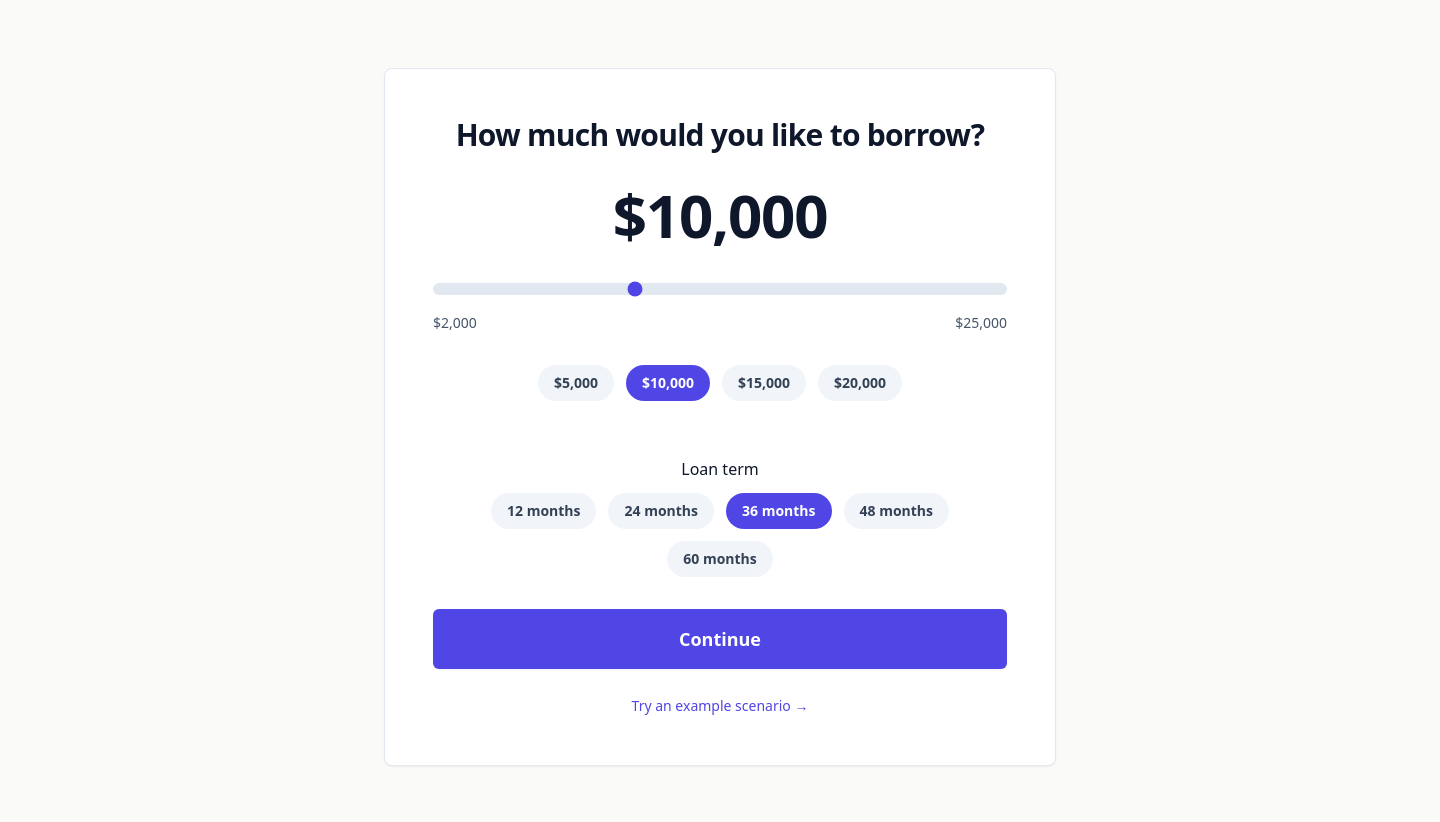
Test: LoanWizard › Step 1: LoanAmountStep › passes selected amount and term to next step
// Find the loan amount input slider
Set the slider to "15000" at coordinates (756, 289), box [433, 283, 1007, 295]
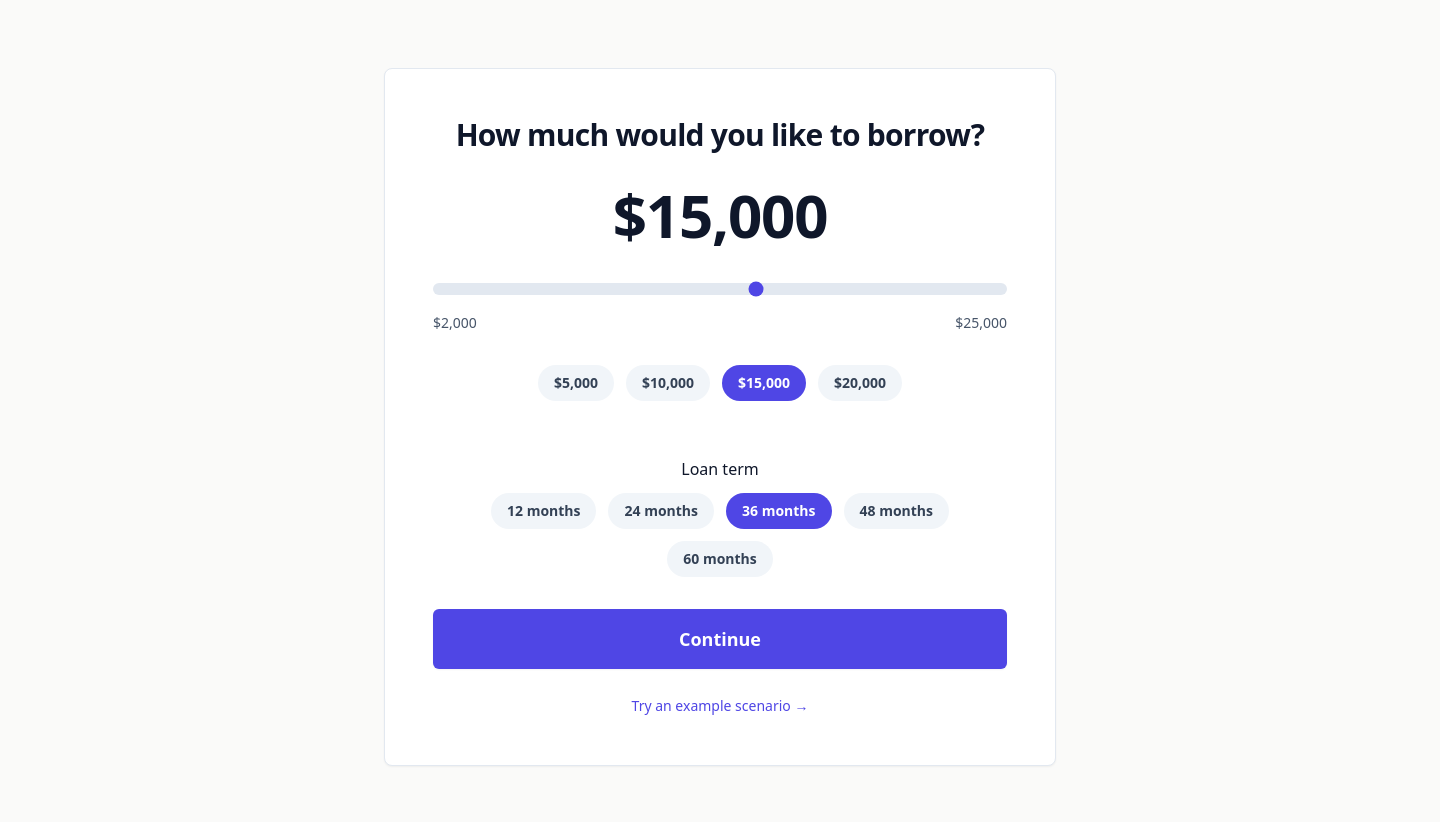
// Click 48-month term button
Click the button "48 months" at coordinates (896, 511), box [844, 493, 949, 529]
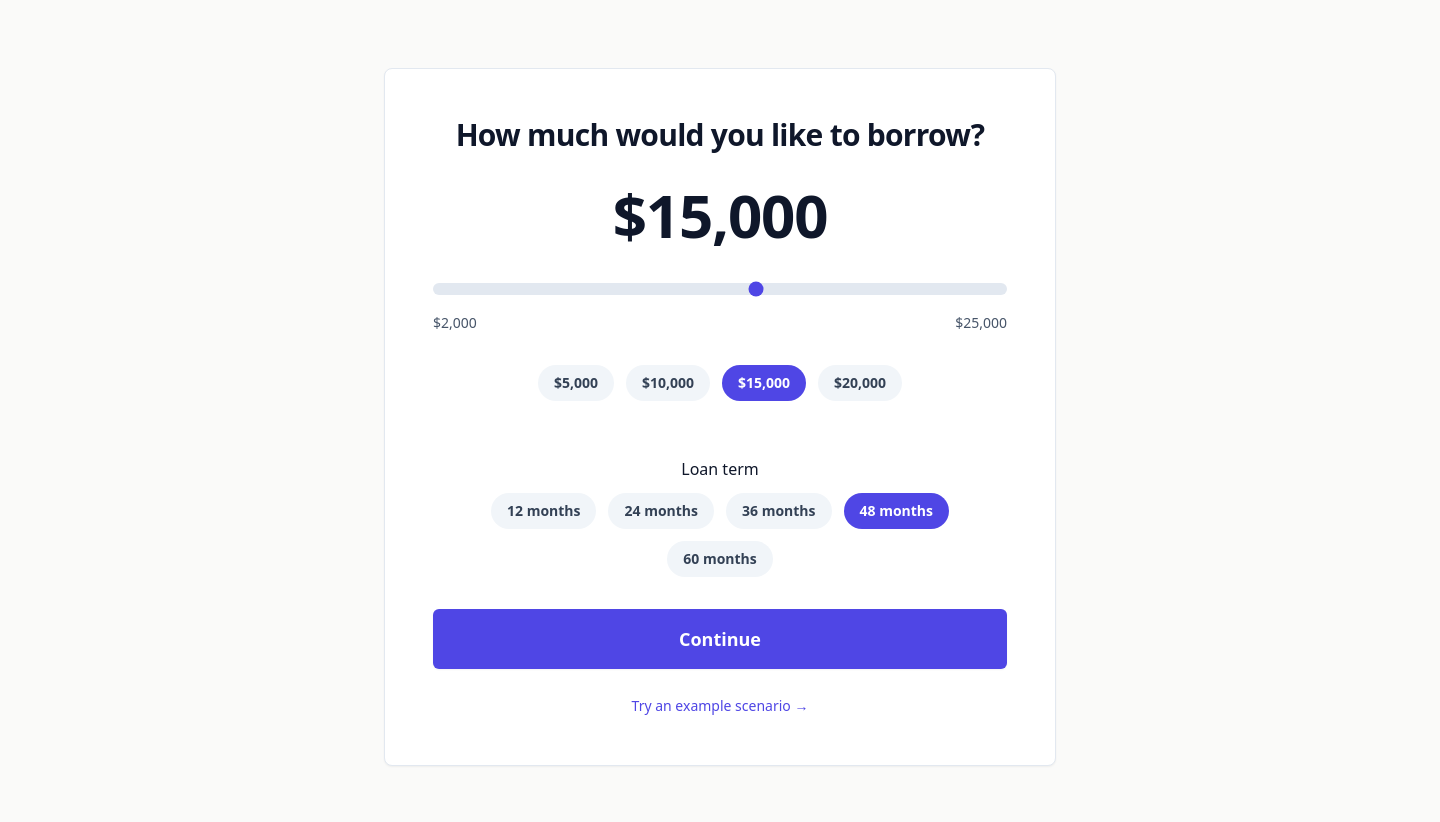
Click the button "Continue" at coordinates (720, 639), box [433, 609, 1007, 669]
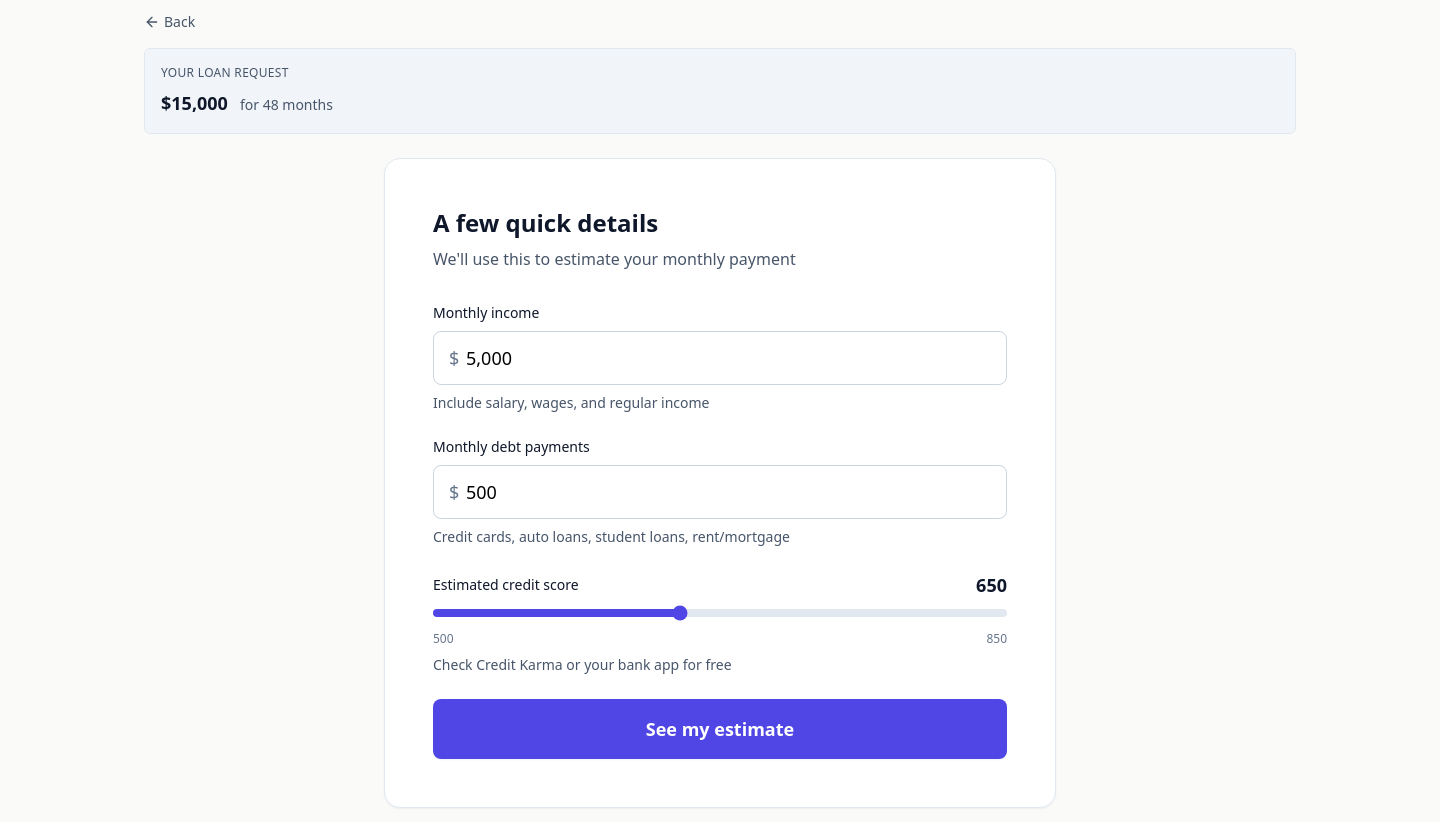
Expected: the text "$15,000" is shown, [161, 89, 228, 117]
Result: the heading "A few quick details" is shown at [433, 206, 658, 239]
